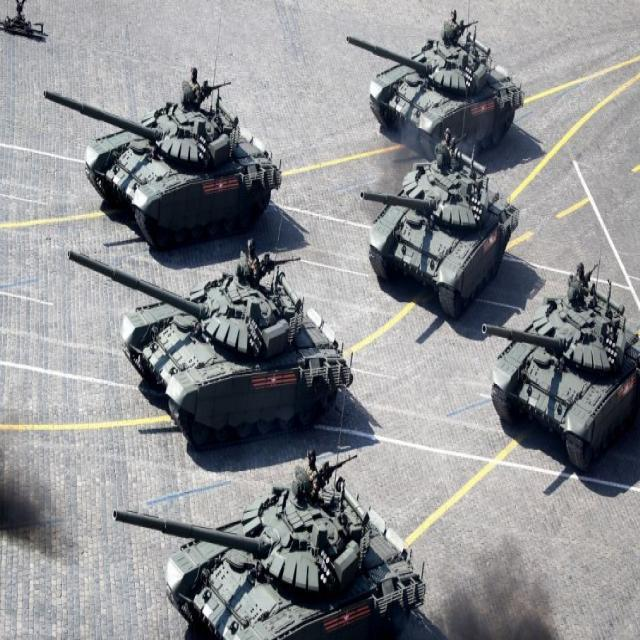MIL_MBT: (107, 446, 417, 640), (70, 254, 350, 451), (36, 74, 280, 254), (481, 264, 640, 472), (357, 144, 515, 316), (338, 20, 524, 158)
